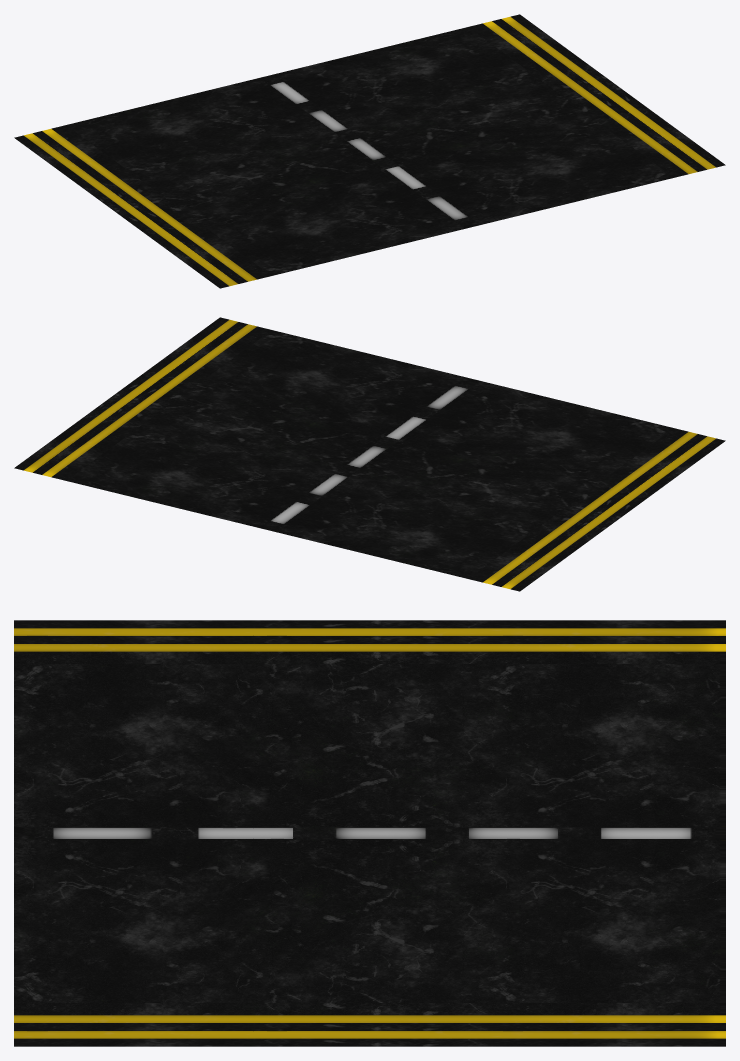
The model's file is RoadLaneDefault_vertical_small.fbx.
3 renders of one model, top to bottom at view 1: azimuth 30°, elevation 25°; view 2: azimuth 150°, elevation 25°; view 3: azimuth 270°, elevation 25°, orthographic. The views are drawn at different scales.
Visible parts, largest first — view 1: RoadLaneLeft, RoadLaneRight, DottedLines; view 2: RoadLaneLeft, RoadLaneRight, DottedLines; view 3: RoadLaneLeft, RoadLaneRight, DottedLines.
Boxes of the visible parts, x1=… form: RoadLaneLeft: x1=14, y1=78, x2=465, y2=288; RoadLaneRight: x1=274, y1=14, x2=725, y2=224; DottedLines: x1=260, y1=74, x2=479, y2=228; RoadLaneLeft: x1=274, y1=381, x2=725, y2=591; RoadLaneRight: x1=14, y1=317, x2=465, y2=527; DottedLines: x1=260, y1=377, x2=479, y2=531; RoadLaneLeft: x1=14, y1=620, x2=725, y2=827; RoadLaneRight: x1=14, y1=839, x2=725, y2=1046; DottedLines: x1=14, y1=827, x2=725, y2=839.
Bounding box in the file's own units: 732 × 0 × 516.
Materials: 1 (1 with a texture image).
